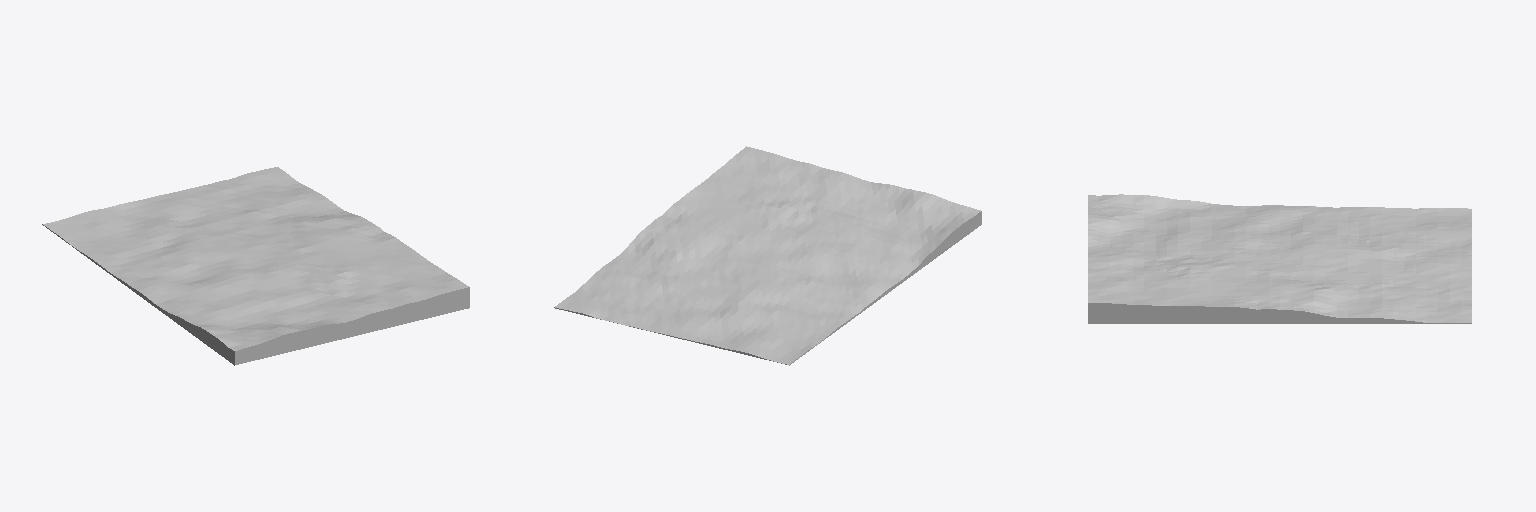
Rendered from terrain-2.obj.
3 renders of one model, left to right at view 1: azimuth 30°, elevation 25°; view 2: azimuth 150°, elevation 25°; view 3: azimuth 270°, elevation 25°, orthographic.
Parts seen in each view (by area): view 1: Terrain; view 2: Terrain; view 3: Terrain.
Part boxes in pixels (x1,y1,x2,y2): Terrain: (42, 167, 469, 365); Terrain: (554, 146, 981, 365); Terrain: (1088, 194, 1471, 323).
Bounding box in the file's own units: 742 × 64 × 1051.